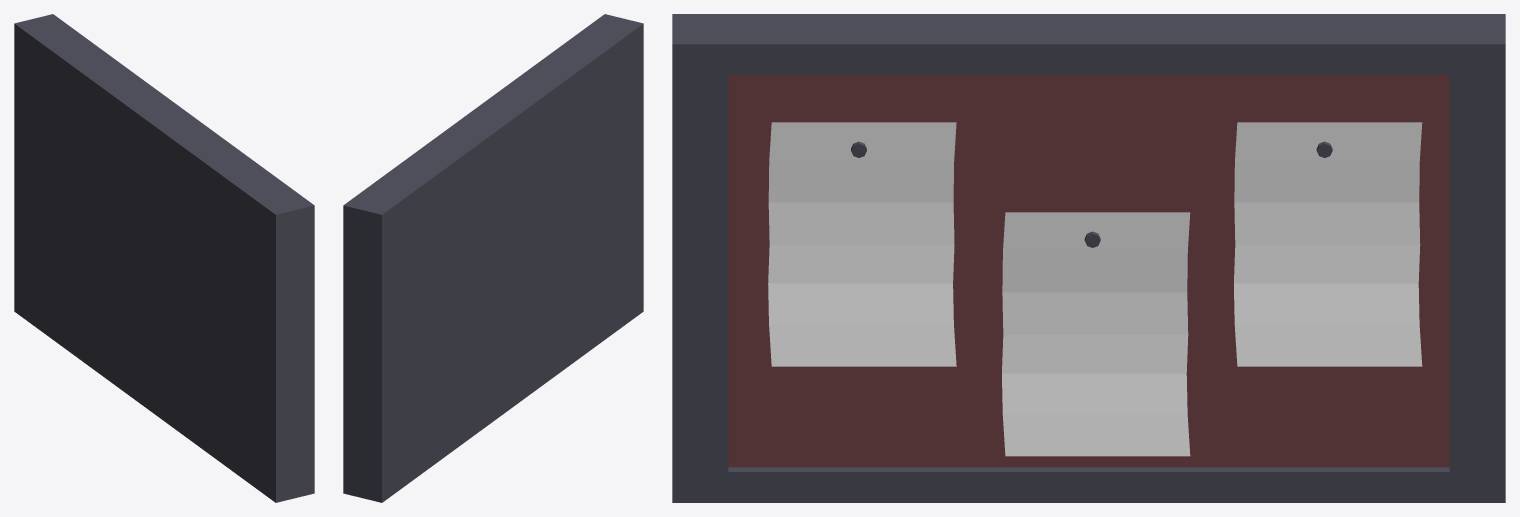
Rendered from quadrodeavisos.fbx.
3 views of the same model, side by side, from view 1: azimuth 30°, elevation 25°; view 2: azimuth 150°, elevation 25°; view 3: azimuth 270°, elevation 25° (orthographic). The views are drawn at different scales.
Visible parts, largest first — view 1: Cube.001; view 2: Cube.001; view 3: Cube.001.
Part boxes in pixels (<box>): Cube.001: <box>14,14,314,502</box>; Cube.001: <box>343,14,643,502</box>; Cube.001: <box>672,14,1505,502</box>.
Bounding box in the file's own units: 106 × 548 × 901.
